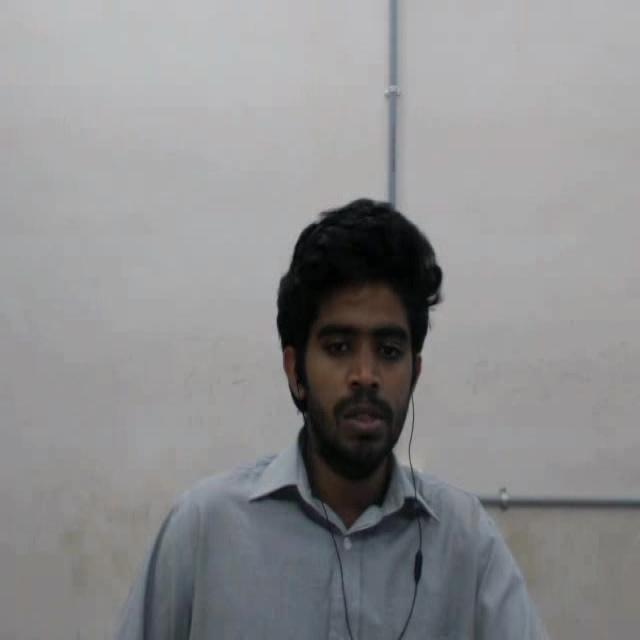Engaged: (251, 184, 469, 535)
